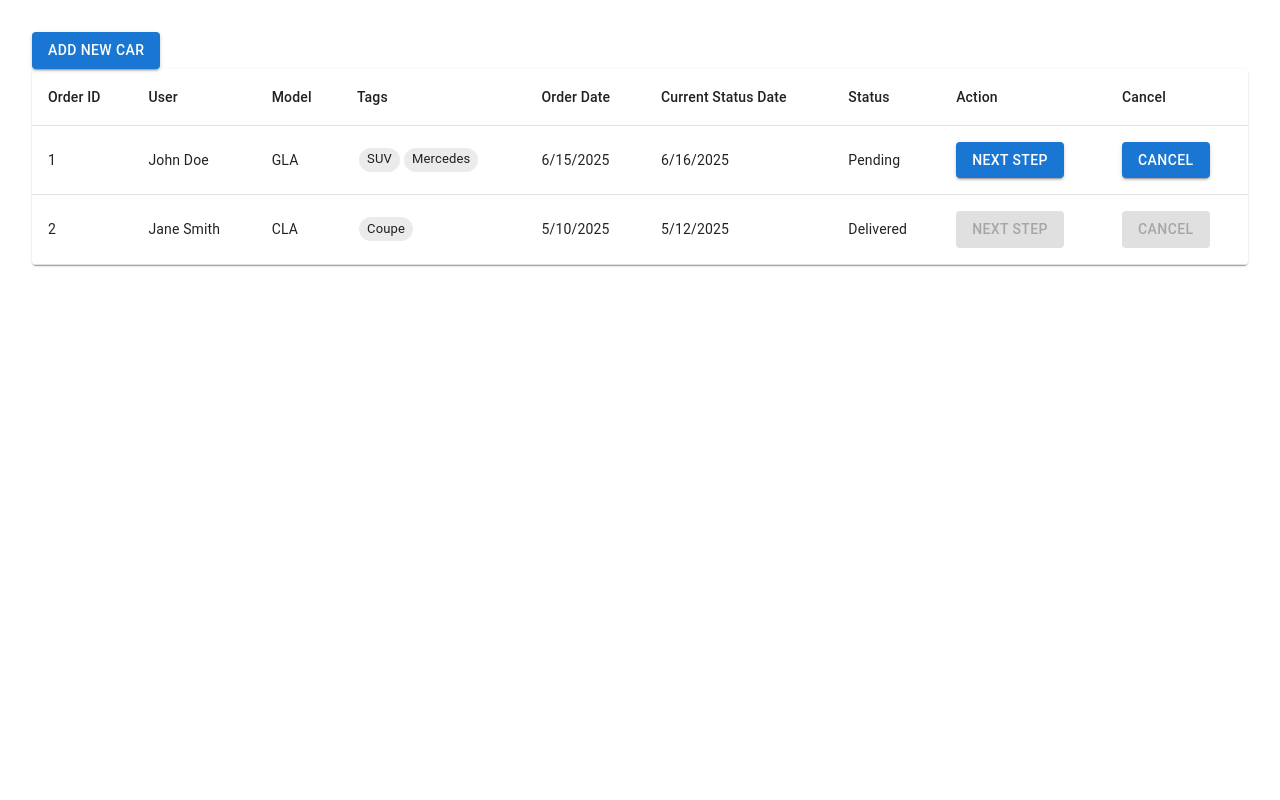
it: OrderTable › adds and displays a tag in the dialog
The width and height of the screenshot is (1280, 800).
Step 1. Click the button "Add new Car" → (96, 50), box [32,32,160,68]
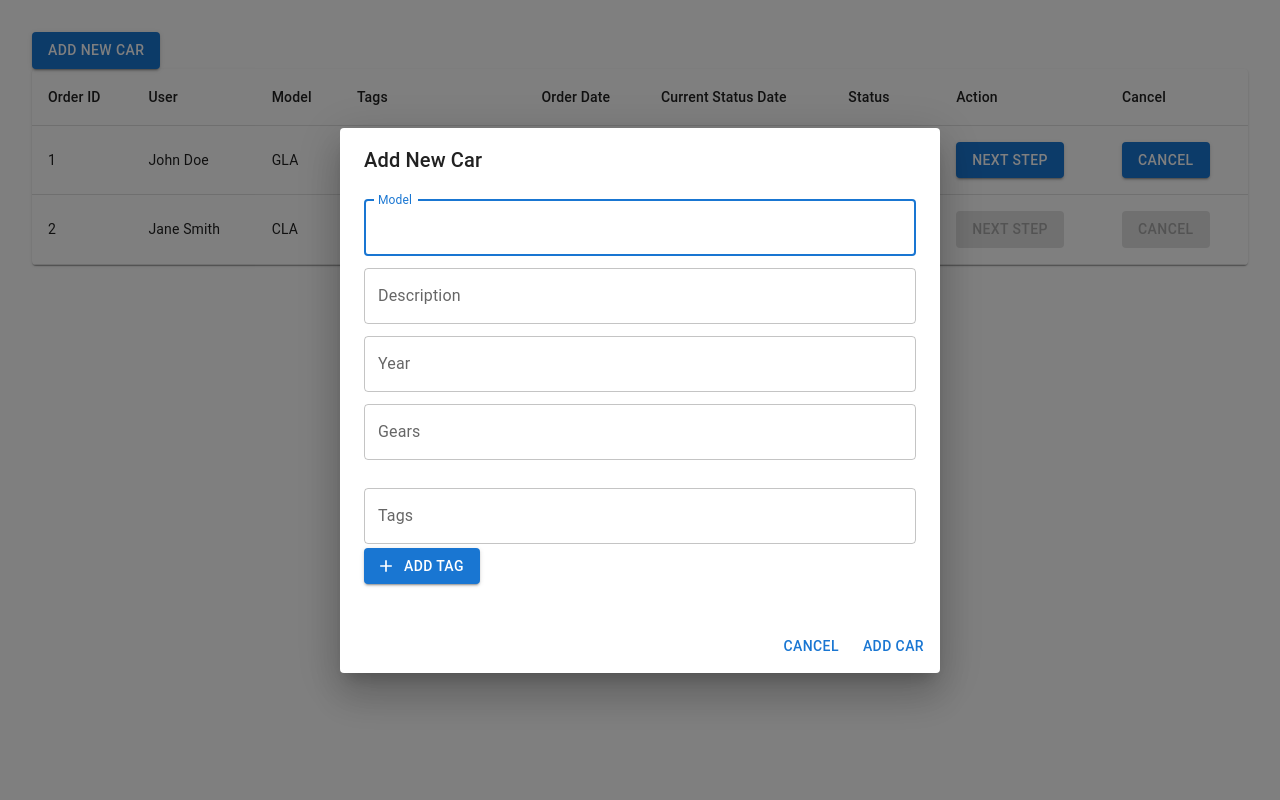
Step 2. Type "Luxury" into the field labelled "Tags" → (640, 516), box [364,488,916,544]
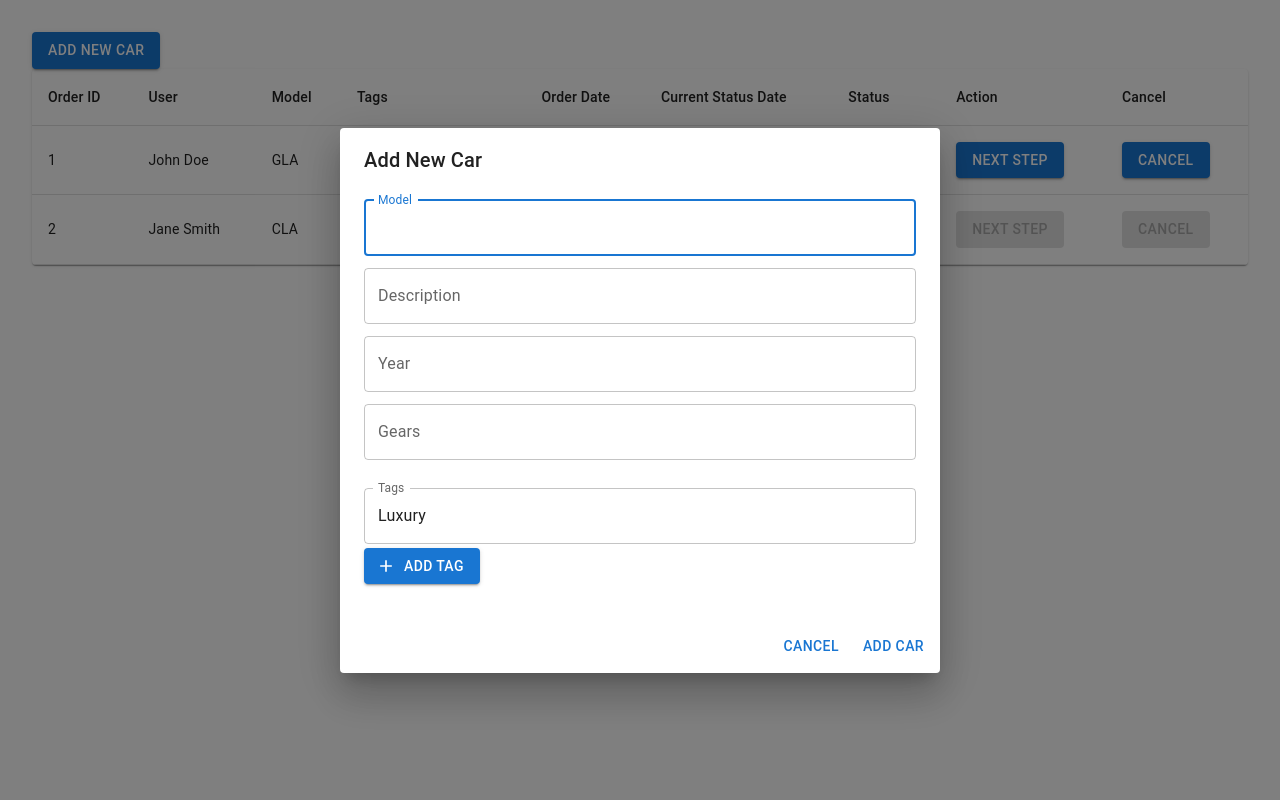
Step 3. Click the button "Add Tag" → (422, 566), box [364,548,480,584]
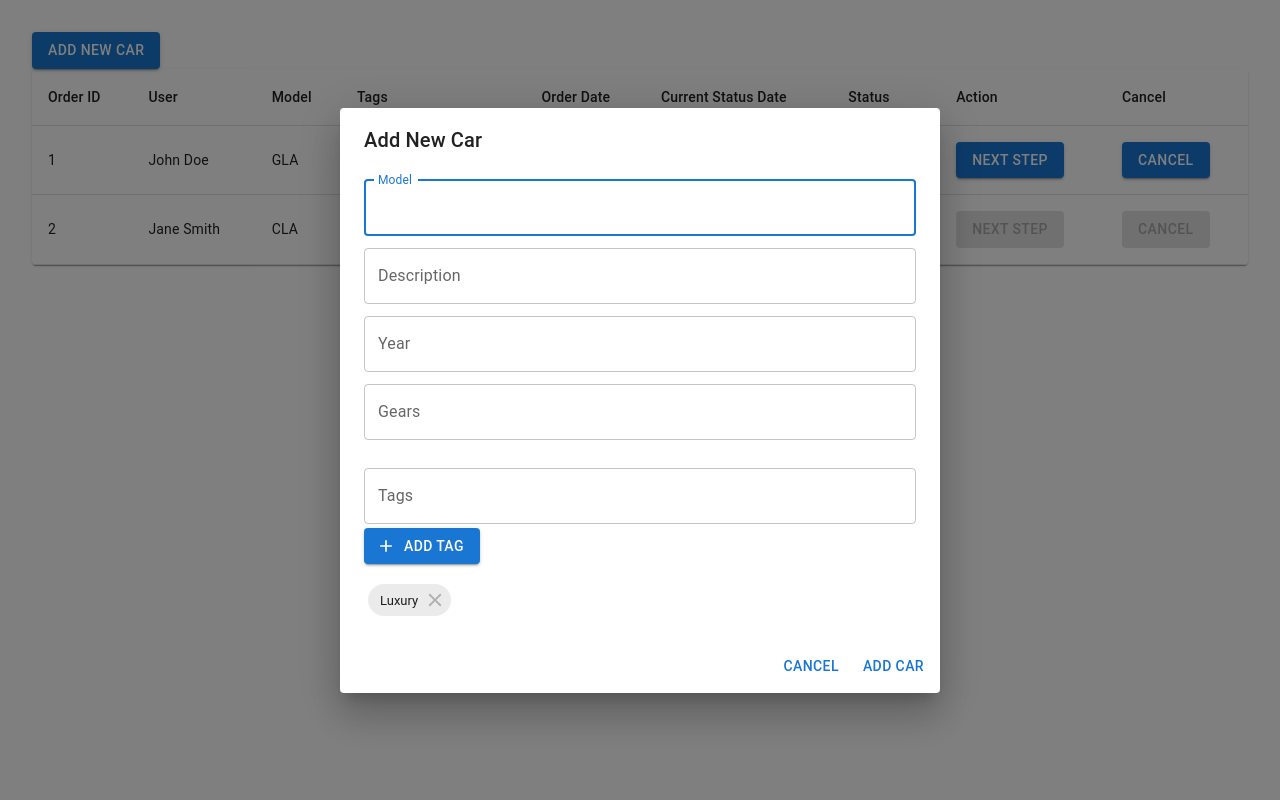
Expected: the text "Luxury" is shown, [380,592,418,608]
